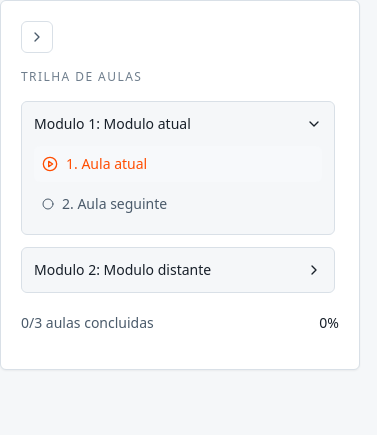
Test case: LessonTrailSidebar › renders lesson links only for the current module until another is expanded
The width and height of the screenshot is (377, 435).
Expected: the link "1. Aula atual" is shown, [34,146,322,182]
Expected: the link "Aula longe" is not shown
Click the button "Modulo 2: Modulo distante" at (178, 270), box [34,260,322,280]
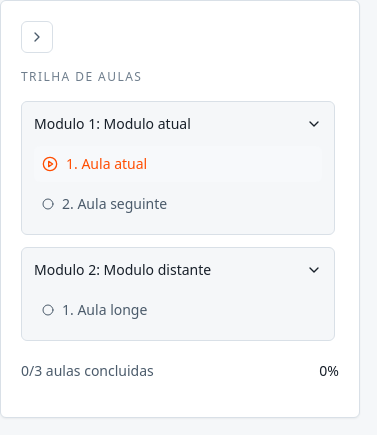
Expected: the link "1. Aula longe" is shown, [42,300,147,319]
